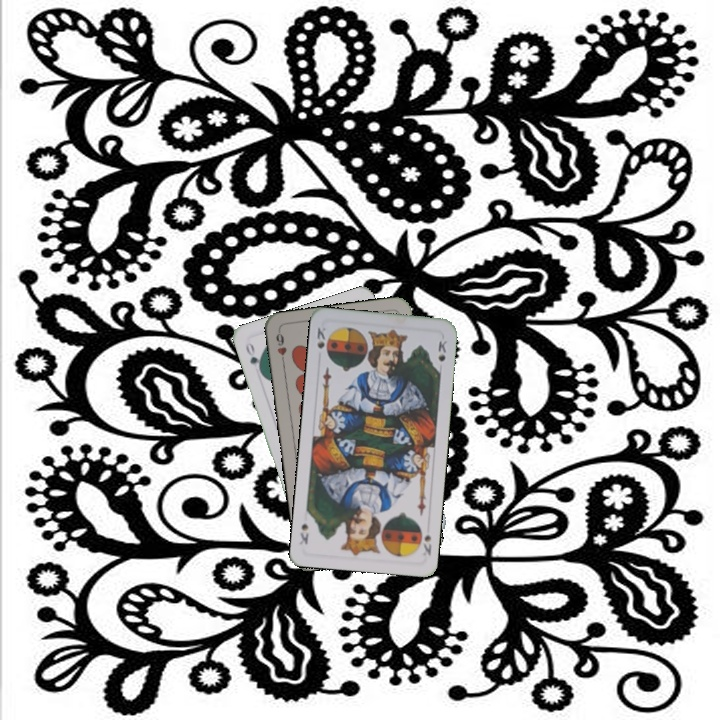GO: (241, 339, 265, 377)
H9: (272, 327, 289, 368)
SK: (419, 529, 434, 559), (313, 323, 328, 351)
